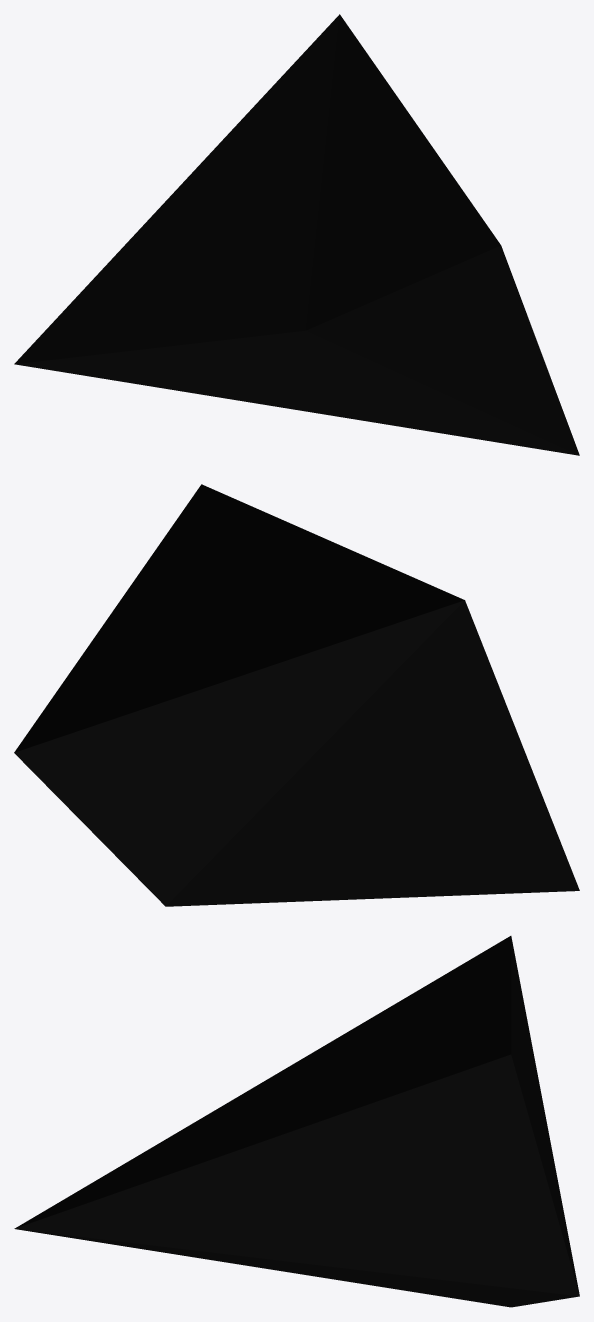
3 views of the same model, one above another, from view 1: azimuth 30°, elevation 25°; view 2: azimuth 150°, elevation 25°; view 3: azimuth 270°, elevation 25° (orthographic). The views are drawn at different scales.
Size of the model in its own units: 0.0301 by 0.02 by 0.0284.
1 material, 1 textured.
